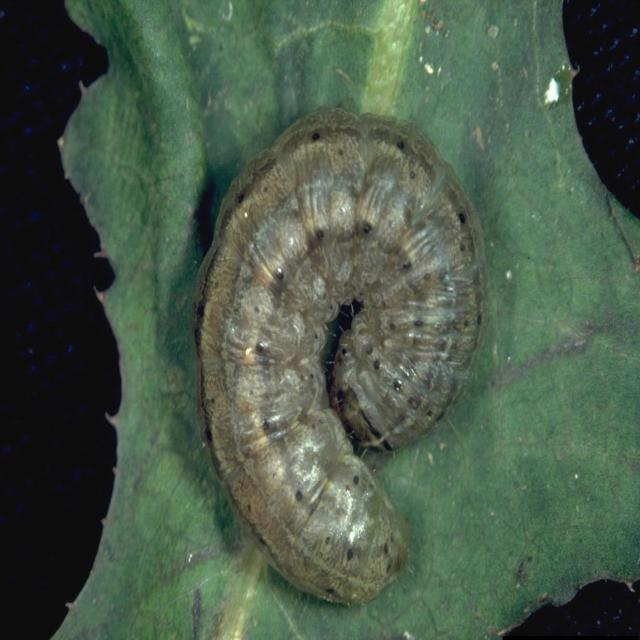cutworm: (192, 96, 486, 620)
